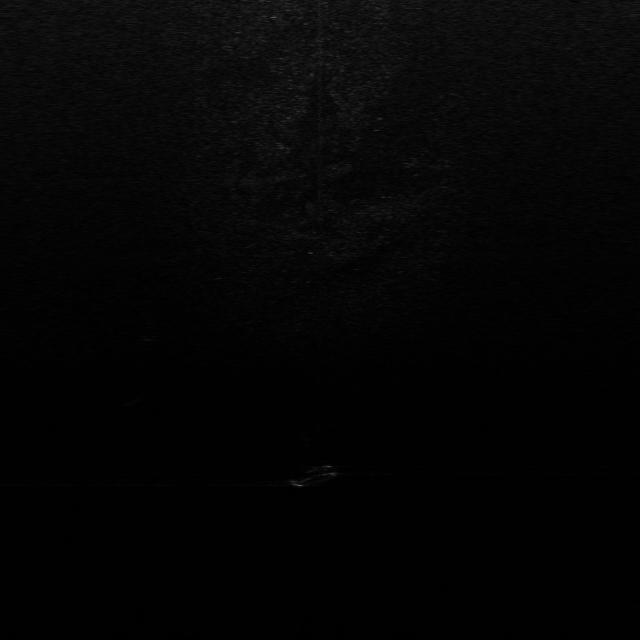tyre: (293, 465, 336, 486)
